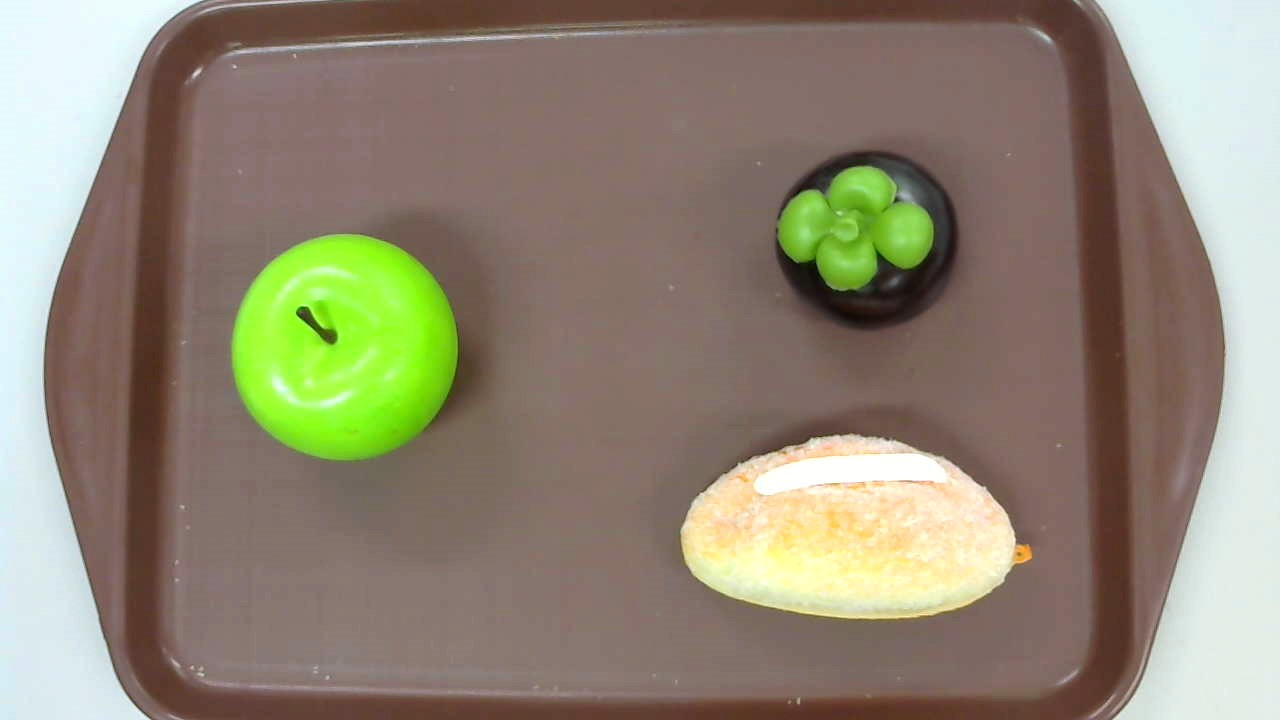coconut: (681, 434, 1033, 618)
green apple: (231, 233, 460, 462)
mangosteen: (774, 151, 957, 329)
